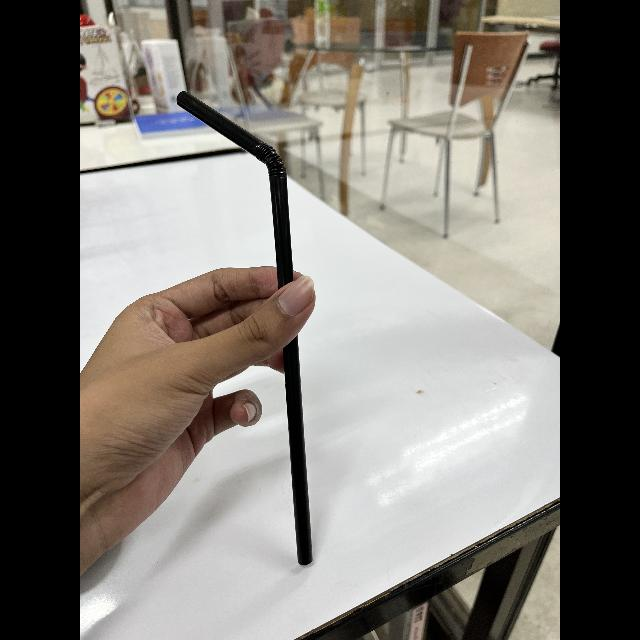straw: (175, 89, 322, 573)
